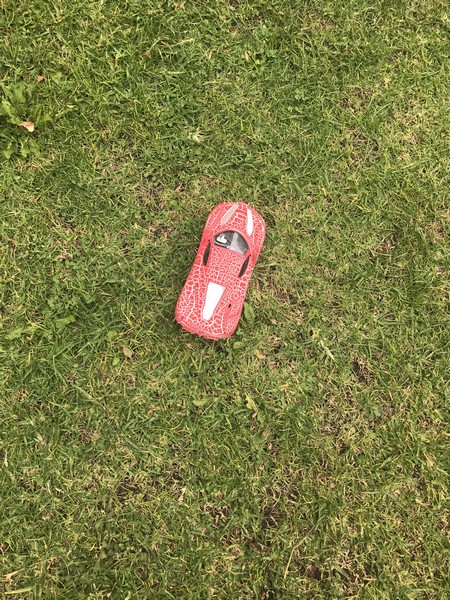RC: (172, 199, 268, 342)
